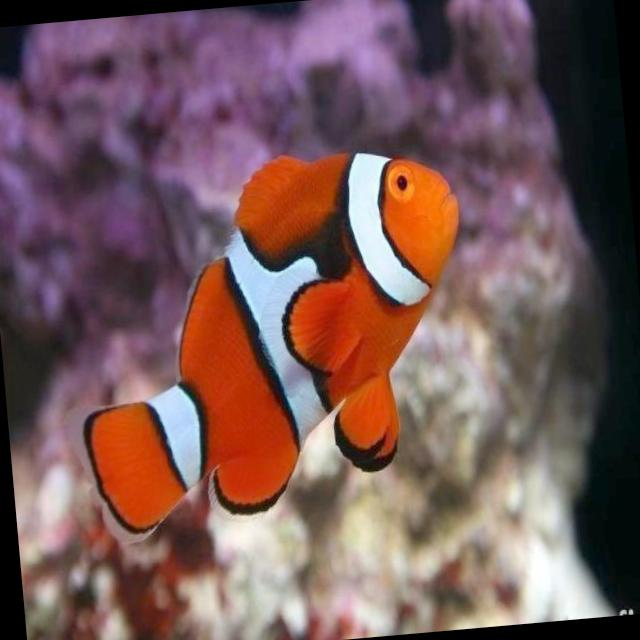ClownFish: (58, 135, 480, 548)
